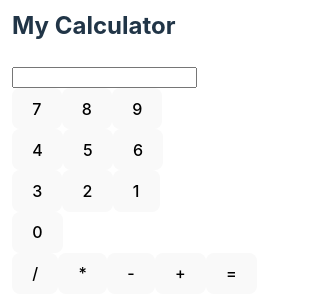
Test case: Calculator › Should change the input field value to 0 when pressing the 0 button
The image size is (332, 298).
Click the button "0": (37, 232) [12,212,63,253]
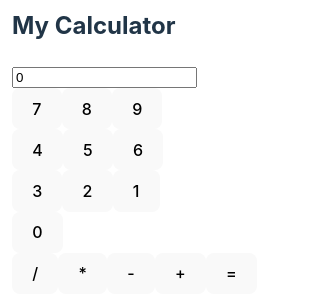
Now the field showing "0" is shown, box [12,67,197,88]
